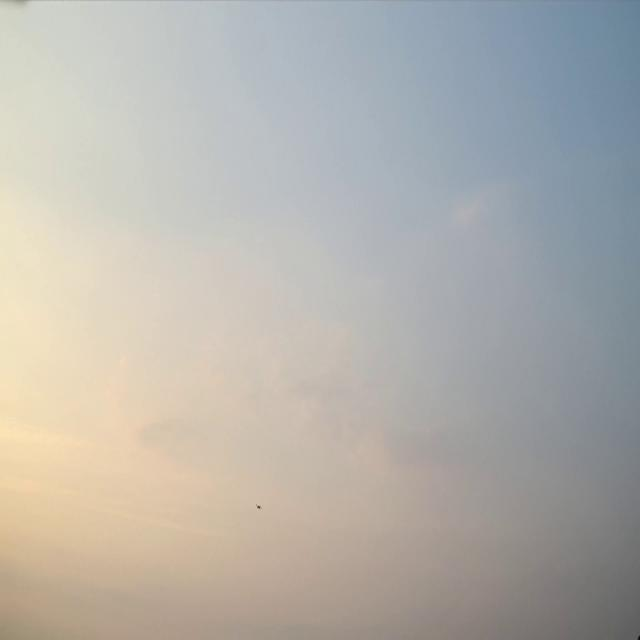drone: (256, 503, 262, 510)
